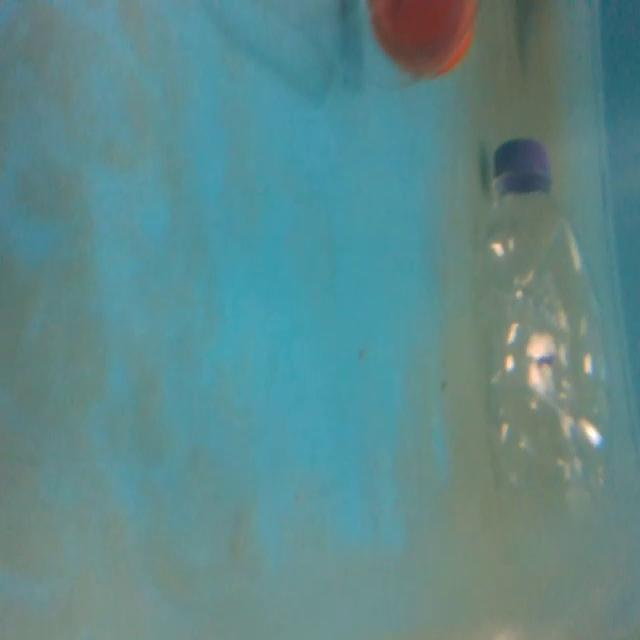plastic bottle: (469, 134, 635, 543)
